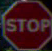Stop: (1, 11, 49, 38)
